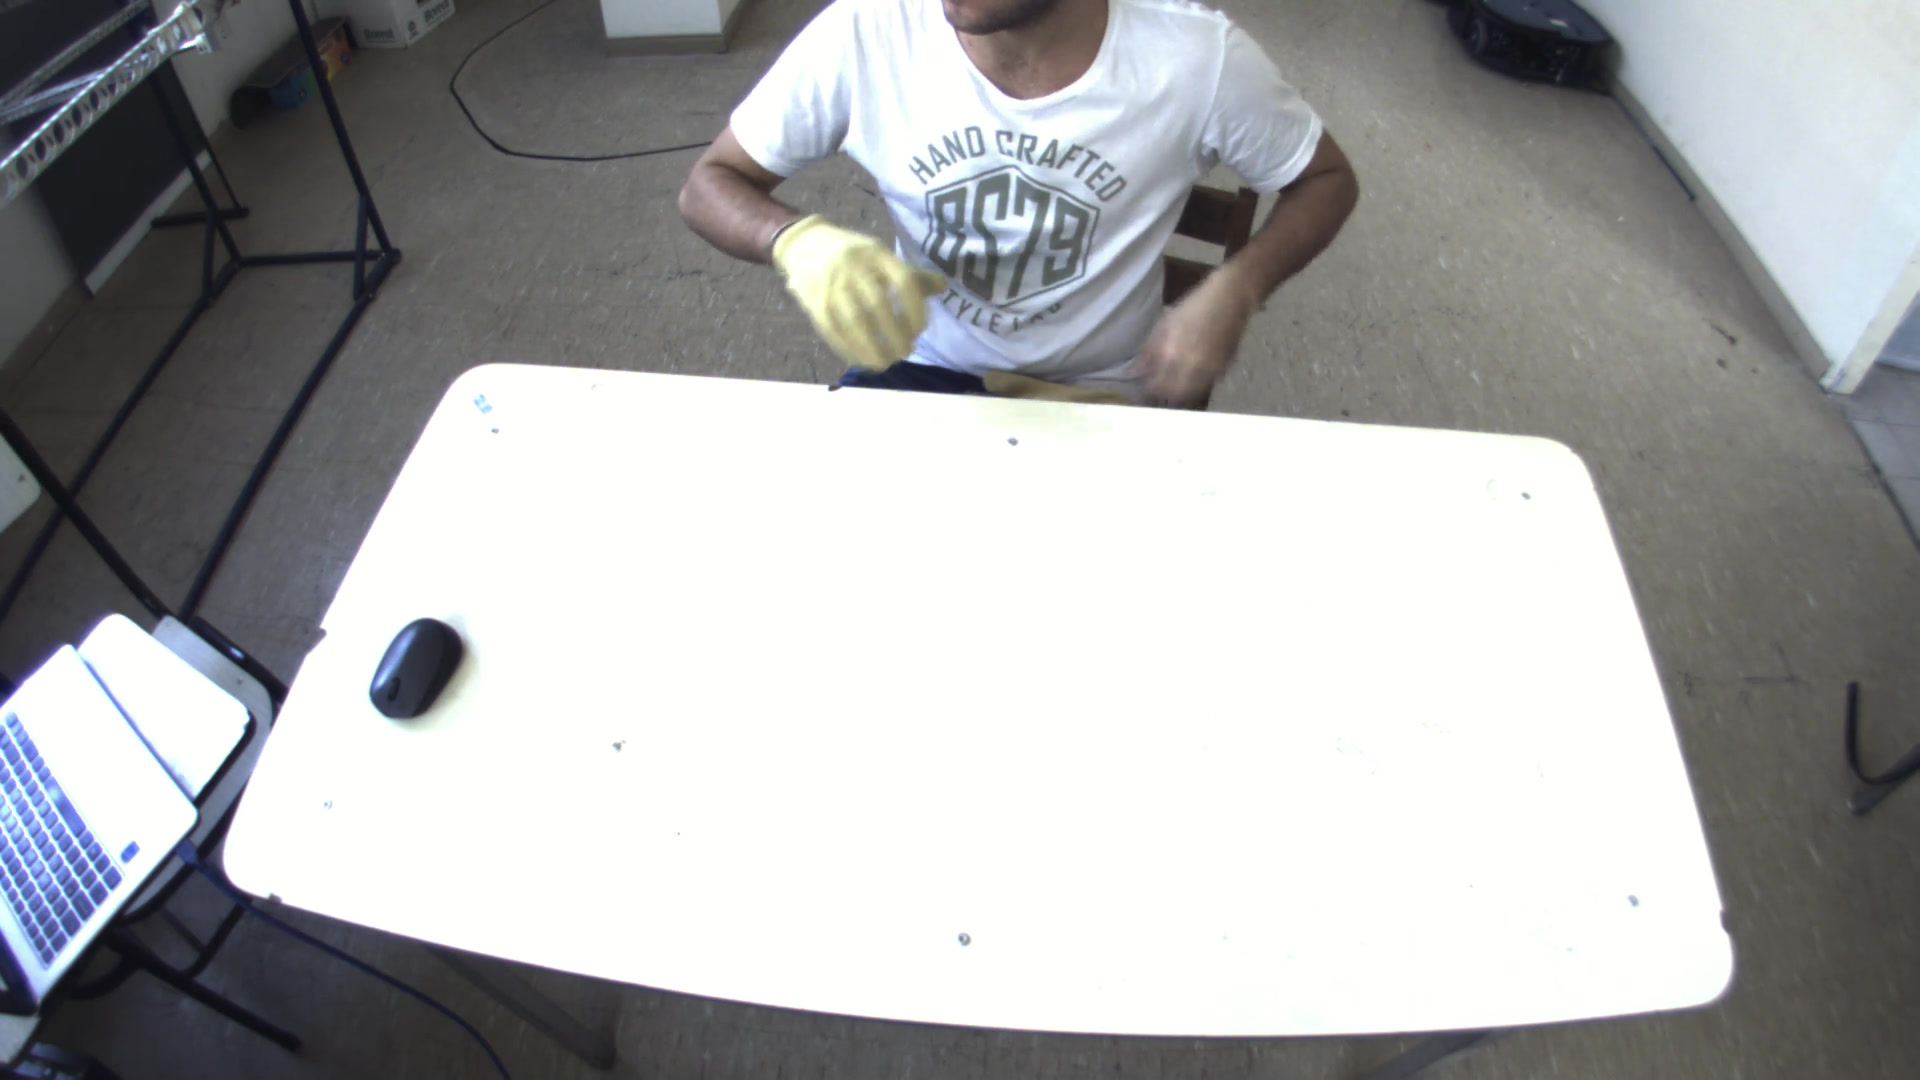hand: (760, 207, 947, 372)
